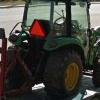Tractor: (3, 13, 100, 94)
